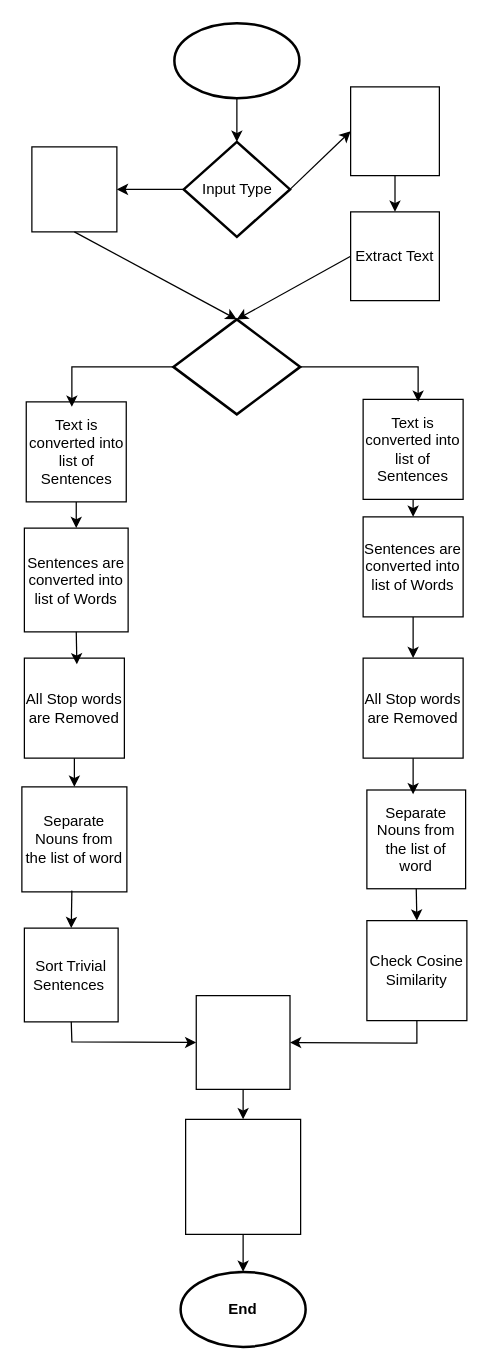
Image size: 489x1369. Some labels were removed from this diagram. Here are the shapes that lost their labels. From the top down, the box of each, then its label:
(172, 21, 300, 99): Start
(349, 86, 439, 176): Upload File
(31, 146, 117, 232): Input Text
(172, 318, 301, 415): Question Type
(195, 994, 290, 1089): Identify Bloom's Level
(184, 1118, 301, 1234): Print, Download PDF, CSV, XLS, Questions or Answers
